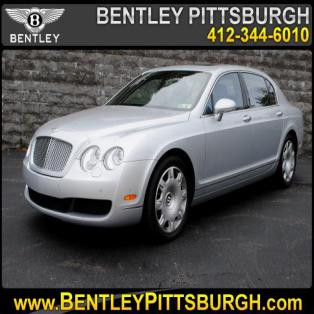Auto: (21, 62, 304, 235)
